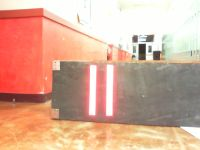switch: (105, 64, 113, 117), (88, 64, 96, 116)
